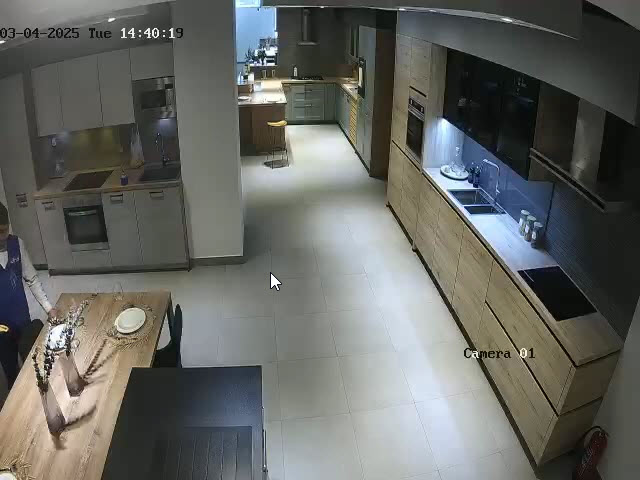employee: (0, 201, 58, 391)
